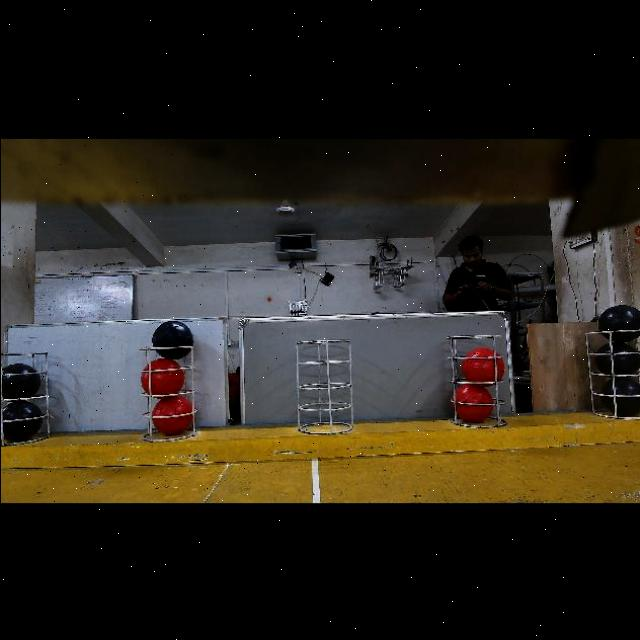P: (151, 320, 193, 359), (596, 304, 640, 341), (2, 400, 42, 440), (600, 376, 640, 413), (595, 342, 640, 374), (1, 363, 40, 398)
R: (140, 357, 184, 394), (151, 396, 192, 435), (454, 384, 492, 423), (462, 348, 503, 383)
S: (131, 348, 195, 444), (294, 340, 354, 438), (446, 334, 504, 426), (582, 330, 640, 414), (0, 346, 50, 438)
